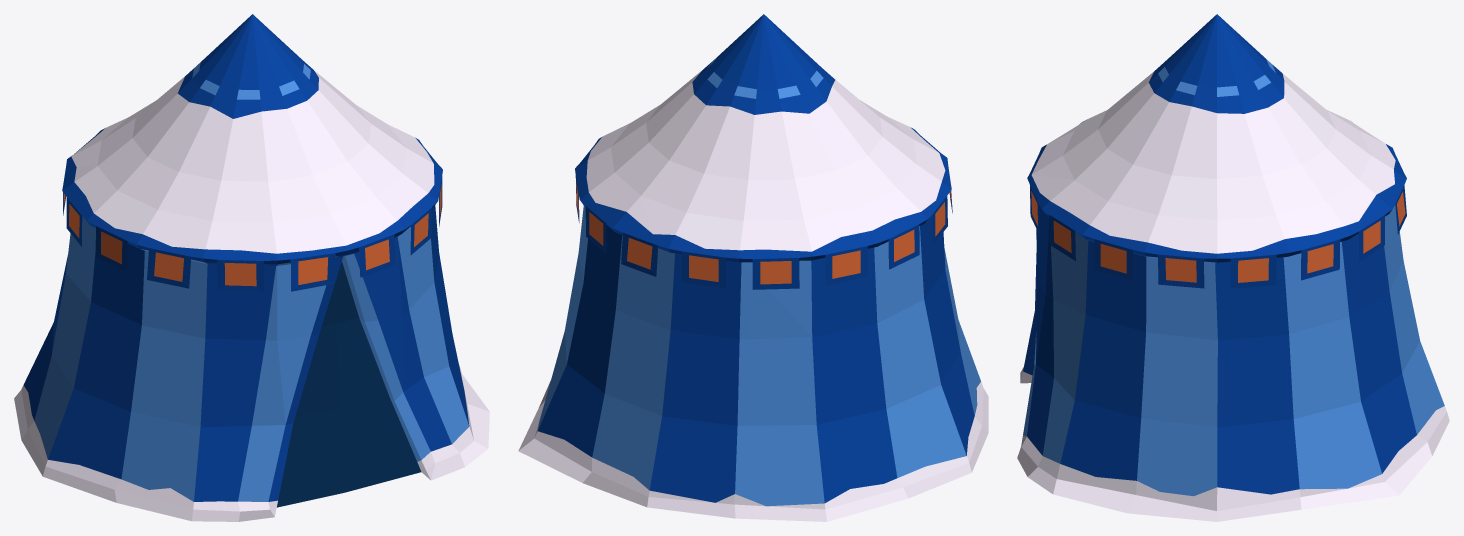
File: decorLarge-village-71.glb
3 views of the same model, side by side, from view 1: azimuth 30°, elevation 25°; view 2: azimuth 150°, elevation 25°; view 3: azimuth 270°, elevation 25° (orthographic).
Parts seen in each view (by area): view 1: piece; view 2: piece; view 3: piece.
Boxes of the visible parts, bbox=[...] form: piece: bbox=[14, 14, 489, 521]; piece: bbox=[518, 14, 988, 521]; piece: bbox=[1017, 14, 1449, 521].
Size of the model in its own units: 3.02 by 2.83 by 2.73.
1 material, 1 textured.
